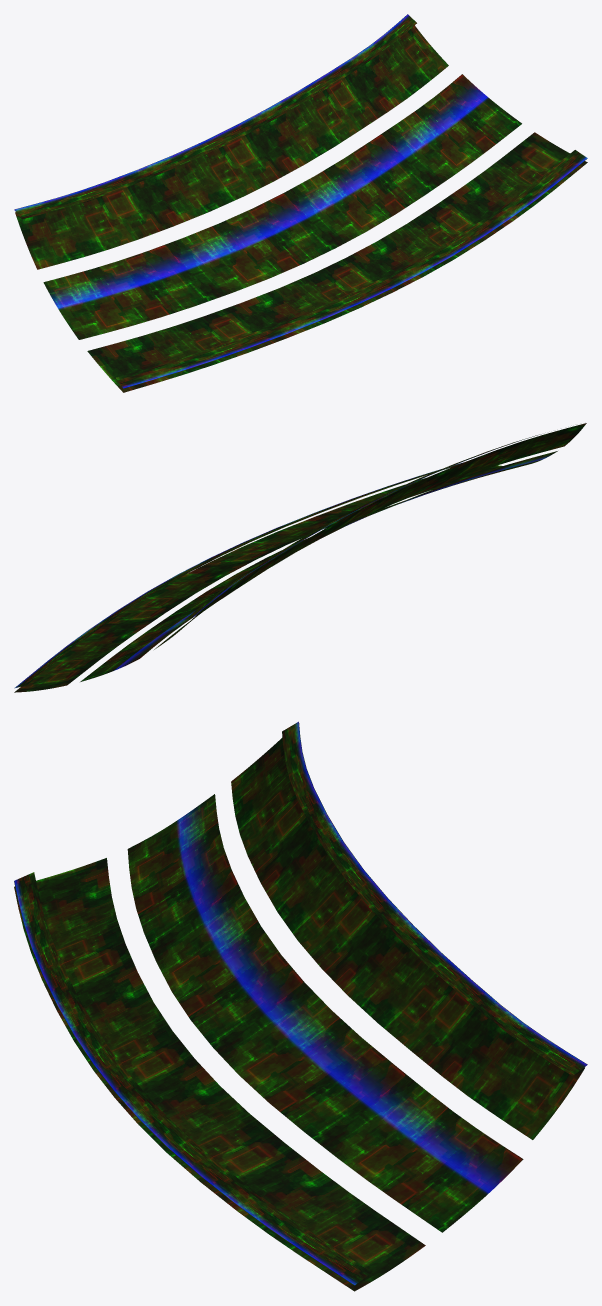
Rendered from Club_TopBoard_01.FBX.
3 views of the same model, one above another, from view 1: azimuth 30°, elevation 25°; view 2: azimuth 210°, elevation 25°; view 3: azimuth 270°, elevation 25° (orthographic). The views are drawn at different scales.
Parts seen in each view (by area): view 1: Club_TopBoard_01; view 2: Club_TopBoard_01; view 3: Club_TopBoard_01.
Part boxes in pixels (x1,y1,x2,y2): Club_TopBoard_01: (14,14,587,392); Club_TopBoard_01: (14,423,586,692); Club_TopBoard_01: (14,721,587,1291).
Size of the model in its own units: 32.22 by 5.8 by 18.99.
